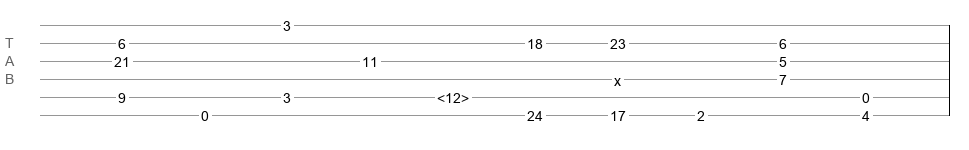0: (201, 108, 209, 118), (862, 90, 870, 100)
11: (362, 54, 378, 64)
17: (610, 108, 626, 118)
18: (527, 36, 543, 46)
2: (697, 108, 705, 118)
21: (114, 54, 130, 64)
23: (610, 36, 626, 46)
24: (527, 108, 543, 118)
3: (283, 18, 291, 28), (283, 90, 291, 100)
4: (862, 108, 870, 118)
5: (779, 54, 787, 64)
6: (118, 36, 126, 46), (779, 36, 787, 46)
7: (779, 72, 787, 82)
9: (118, 90, 126, 100)
harmonic: (437, 90, 469, 100)
x: (614, 73, 621, 81)
